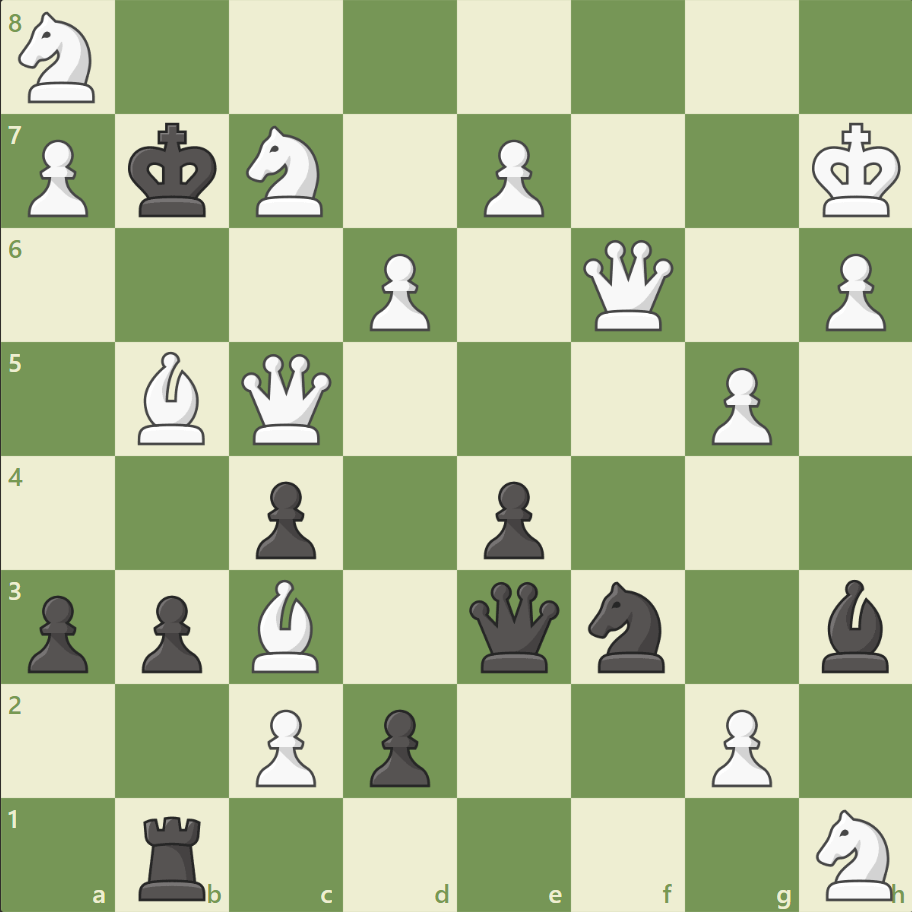B: (131, 347, 215, 449), (244, 574, 328, 676)
K: (806, 117, 906, 225)
N: (11, 7, 108, 110), (238, 121, 335, 223), (806, 802, 903, 904)
P: (20, 132, 95, 223), (474, 132, 549, 223), (701, 359, 776, 450), (247, 700, 322, 791), (701, 700, 776, 791), (361, 246, 435, 337), (815, 246, 889, 337)
Q: (237, 349, 336, 449), (578, 236, 677, 335)
b: (812, 574, 896, 676)
k: (124, 117, 224, 225)
n: (579, 575, 676, 677)
p: (247, 473, 322, 564), (474, 473, 549, 564), (20, 586, 95, 677), (133, 586, 208, 677), (361, 700, 435, 791)
q: (464, 576, 563, 676)
r: (133, 806, 215, 904)
